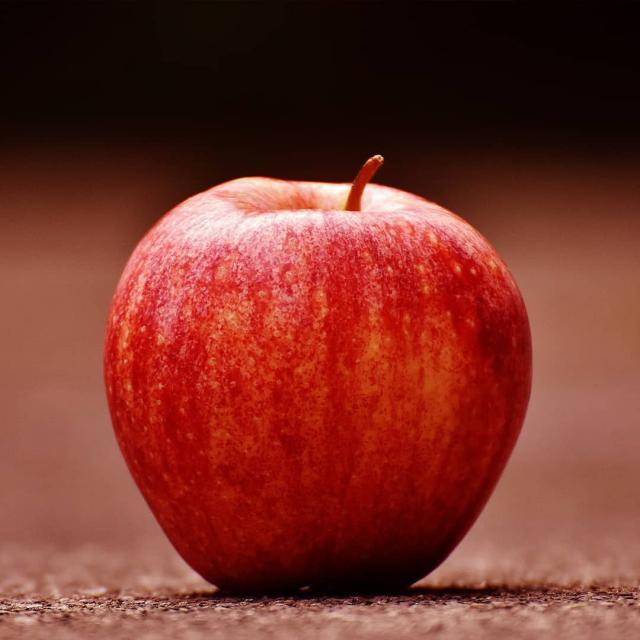Fresh Apple: (120, 173, 543, 580)
